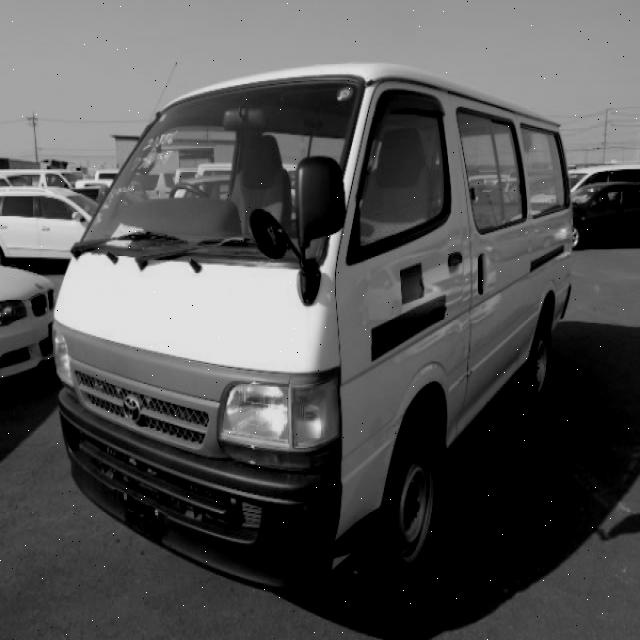Van: (50, 55, 581, 579)
